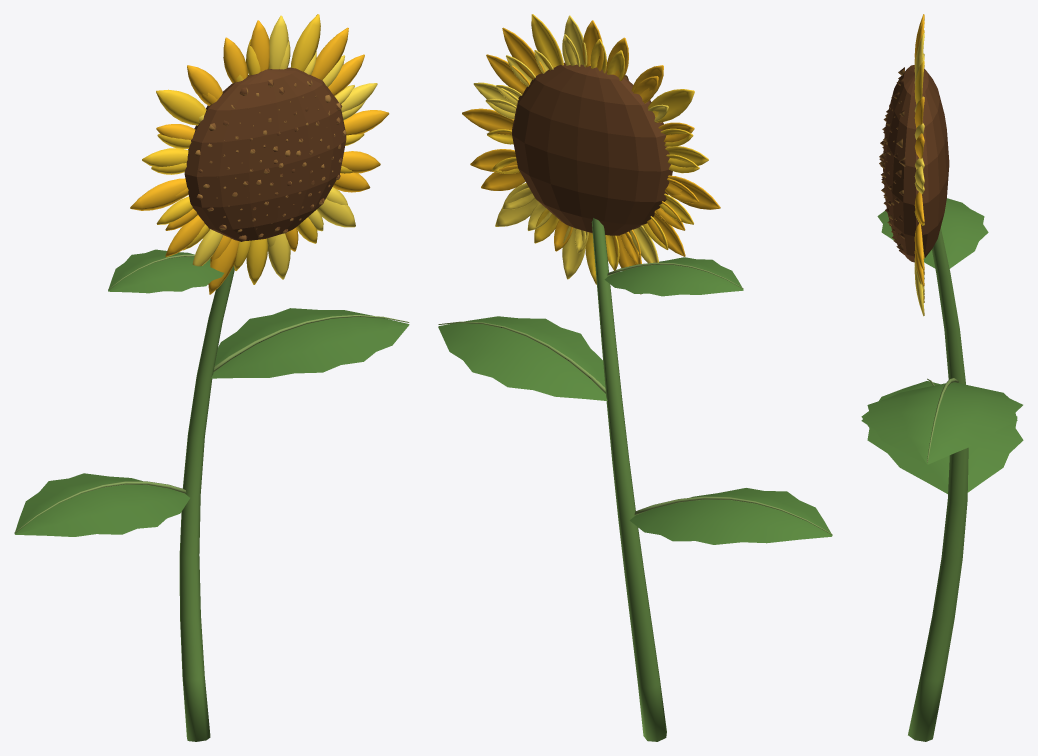
Rendered from sunflower-v2-bloom-0-2.glb.
3 renders of one model, left to right at view 1: azimuth 30°, elevation 25°; view 2: azimuth 150°, elevation 25°; view 3: azimuth 270°, elevation 25°, orthographic. The views are drawn at different scales.
Visible parts, largest first — view 1: Curved tapered stem; view 2: Curved tapered stem; view 3: Curved tapered stem.
Boxes of the visible parts, x1=… form: Curved tapered stem: x1=14, y1=14, x2=409, y2=741; Curved tapered stem: x1=438, y1=14, x2=832, y2=741; Curved tapered stem: x1=861, y1=14, x2=1023, y2=741.
Size of the model in its own units: 0.3333 by 0.5684 by 0.1116.
